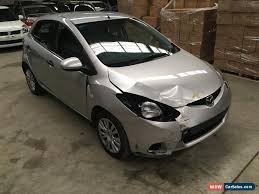Broken-glass: (123, 95, 176, 121)
Dent: (122, 83, 199, 132)
Scratch: (165, 138, 178, 153)
